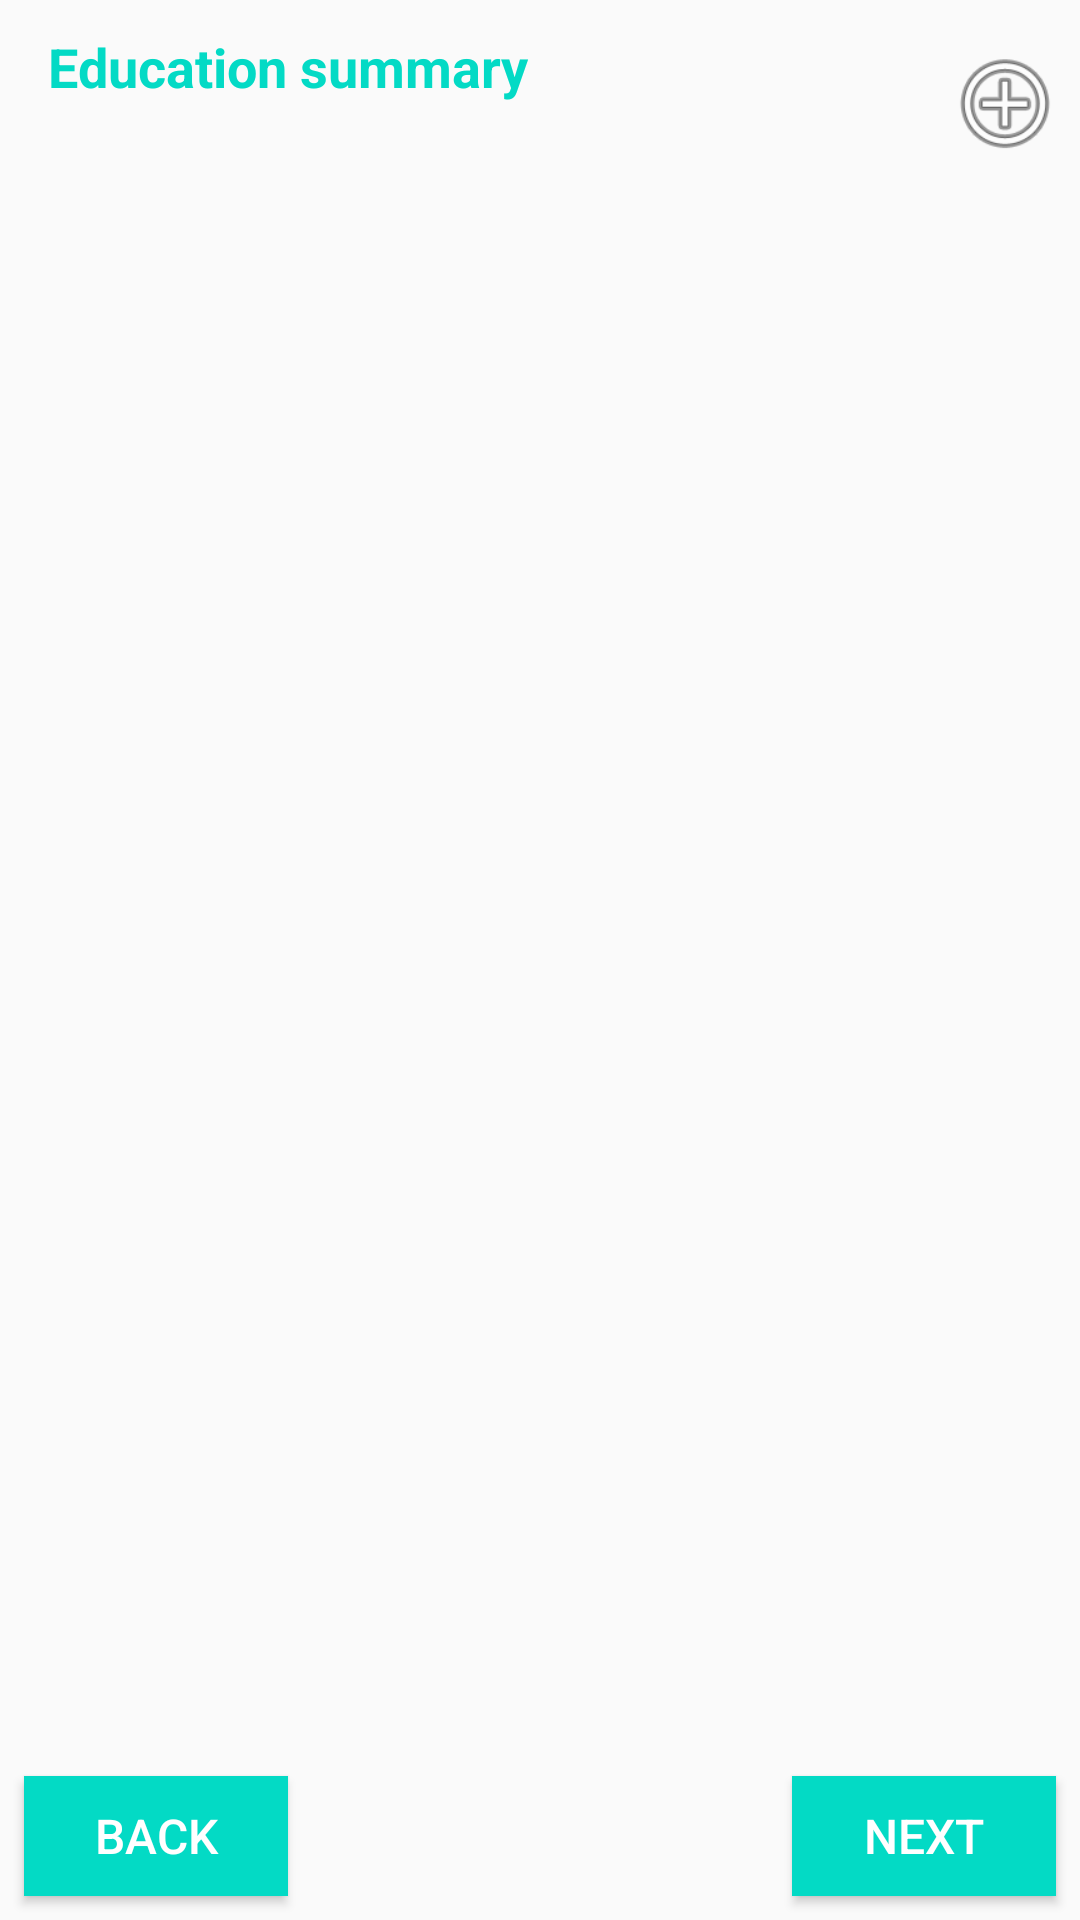

Icons on this 1080 x 1920 Android screen, each with the point to tap as point (x, y):
add: point (1005, 103)
